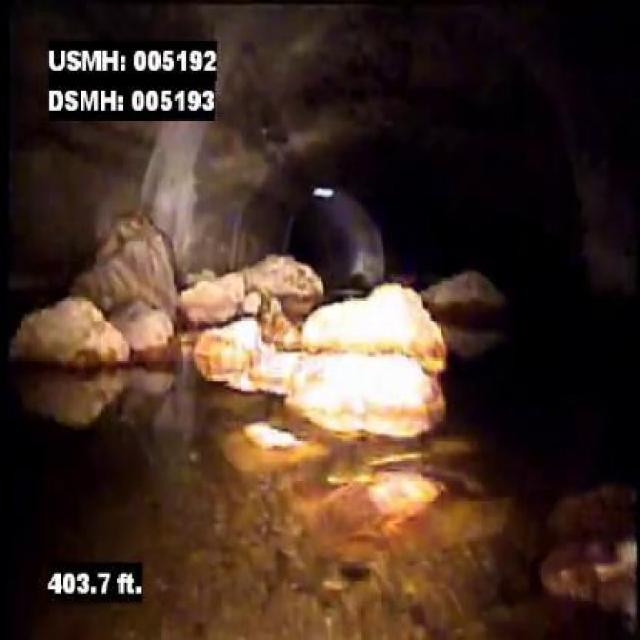Obstacle: (0, 209, 448, 442)
